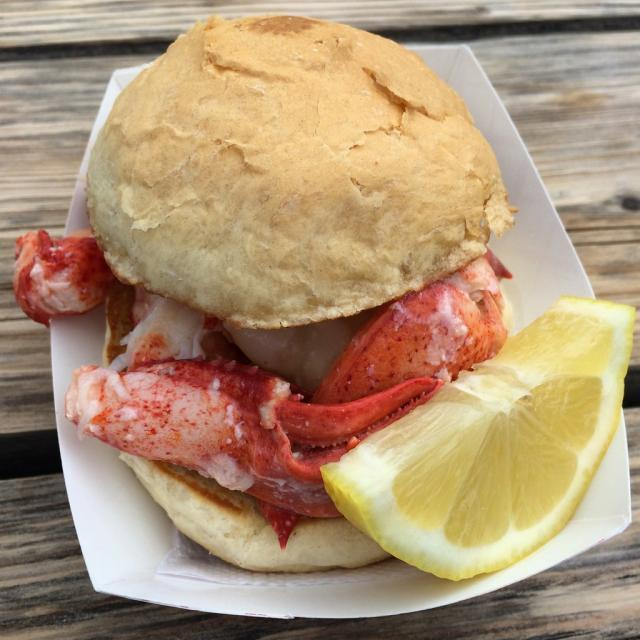Lemon: (318, 293, 638, 584)
